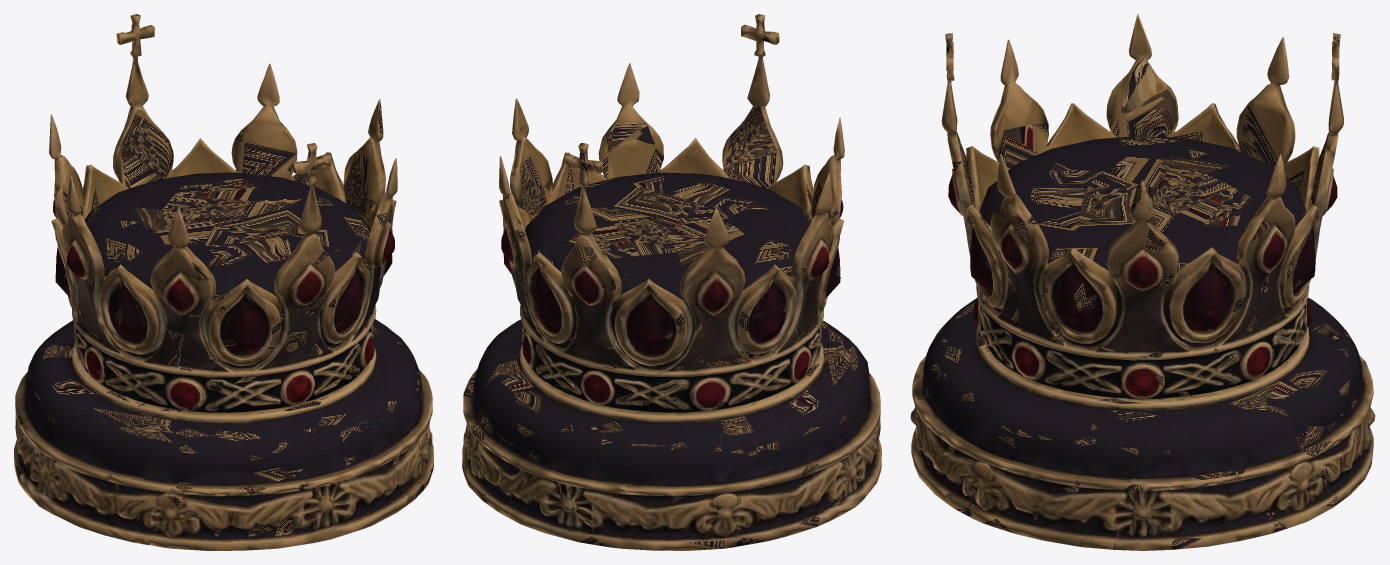
File: ironcrownCrown.e44eaa1e.glb
The picture shows the model from 3 angles, left to right: view 1: azimuth 30°, elevation 25°; view 2: azimuth 150°, elevation 25°; view 3: azimuth 270°, elevation 25°; orthographic projection. The views are drawn at different scales.
Size of the model in its own units: 1.9 by 1.88 by 1.89.
1 material, 1 textured.
